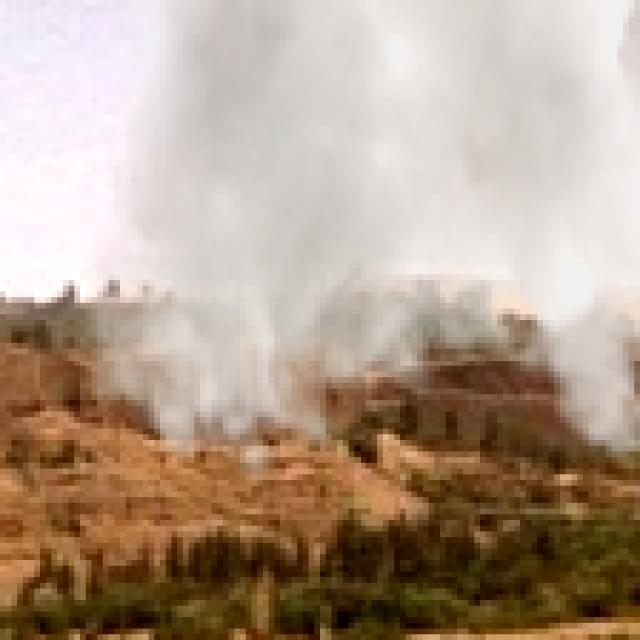smoke: (80, 0, 640, 491)
